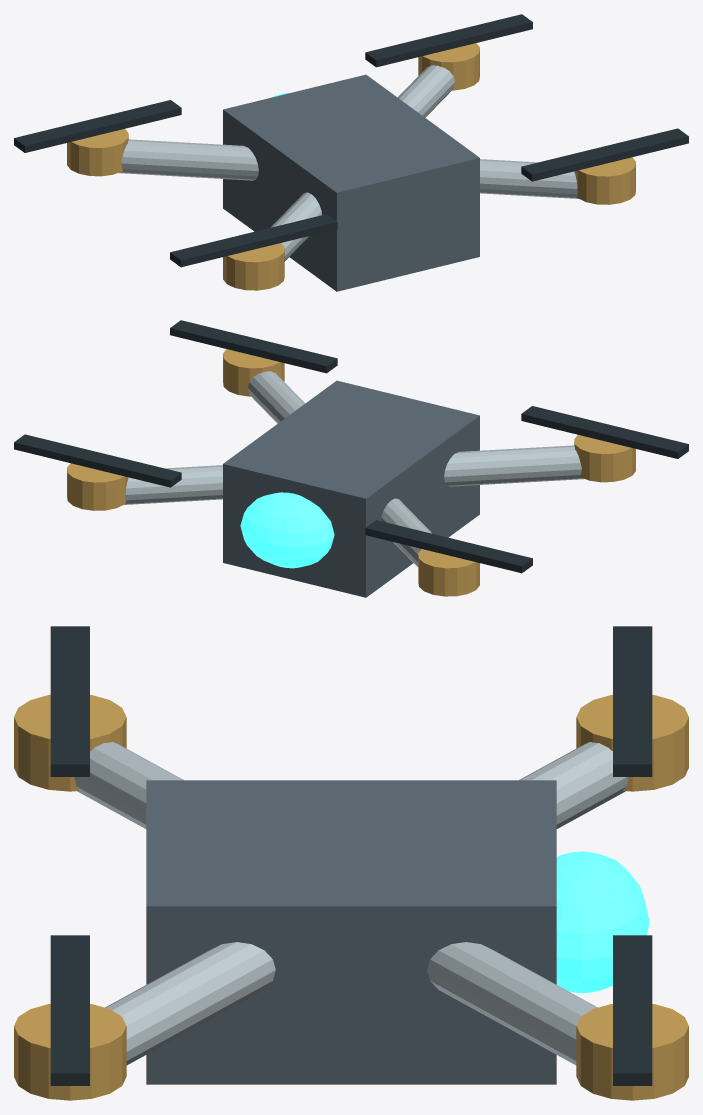
Rendered from engineer-drone.glb.
3 views of the same model, one above another, from view 1: azimuth 30°, elevation 25°; view 2: azimuth 150°, elevation 25°; view 3: azimuth 270°, elevation 25° (orthographic). The views are drawn at different scales.
Parts seen in each view (by area): view 1: drone core, rotor strut.002, rotor.003, rotor, rotor.001, rotor.002, rotor strut.001, rotor hub, rotor hub.001, rotor hub.002, rotor strut.003, rotor hub.003 (+1 smaller); view 2: drone core, recon camera, rotor strut, rotor.001, rotor.002, rotor.003, rotor, rotor strut.003, rotor hub.002, rotor hub.003, rotor hub, rotor strut.001 (+2 smaller); view 3: drone core, recon camera, rotor strut.001, rotor strut.003, rotor hub.001, rotor hub.003, rotor, rotor.001, rotor.002, rotor.003, rotor hub, rotor hub.002 (+2 smaller).
Part boxes in pixels (<box>): drone core: <box>223,74,479,291</box>; rotor strut.002: <box>119,139,258,180</box>; rotor.003: <box>365,14,532,67</box>; rotor: <box>170,214,337,267</box>; rotor.001: <box>521,128,688,181</box>; rotor.002: <box>14,100,181,152</box>; rotor strut.001: <box>480,159,578,198</box>; rotor hub: <box>223,243,284,290</box>; rotor hub.001: <box>574,157,635,204</box>; rotor hub.002: <box>67,129,128,176</box>; rotor strut.003: <box>398,65,454,117</box>; rotor hub.003: <box>418,43,479,90</box>; drone core: <box>223,380,479,597</box>; recon camera: <box>240,492,334,568</box>; rotor strut: <box>444,445,583,486</box>; rotor.001: <box>170,320,337,373</box>; rotor.002: <box>365,520,532,573</box>; rotor.003: <box>14,434,181,487</box>; rotor: <box>521,406,688,458</box>; rotor strut.003: <box>124,465,222,504</box>; rotor hub.002: <box>418,549,479,596</box>; rotor hub.003: <box>67,463,128,510</box>; rotor hub: <box>574,435,635,482</box>; rotor strut.001: <box>248,371,304,423</box>; drone core: <box>146,780,556,1084</box>; recon camera: <box>556,851,649,993</box>; rotor strut.001: <box>105,942,275,1065</box>; rotor strut.003: <box>427,942,597,1065</box>; rotor hub.001: <box>14,1004,126,1100</box>; rotor hub.003: <box>576,1004,688,1100</box>; rotor: <box>50,626,89,776</box>; rotor.001: <box>50,935,89,1085</box>; rotor.002: <box>613,626,652,776</box>; rotor.003: <box>613,935,652,1085</box>; rotor hub: <box>14,694,126,791</box>; rotor hub.002: <box>576,694,688,791</box>.
Size of the model in its own units: 1.88 by 0.35 by 1.2.
